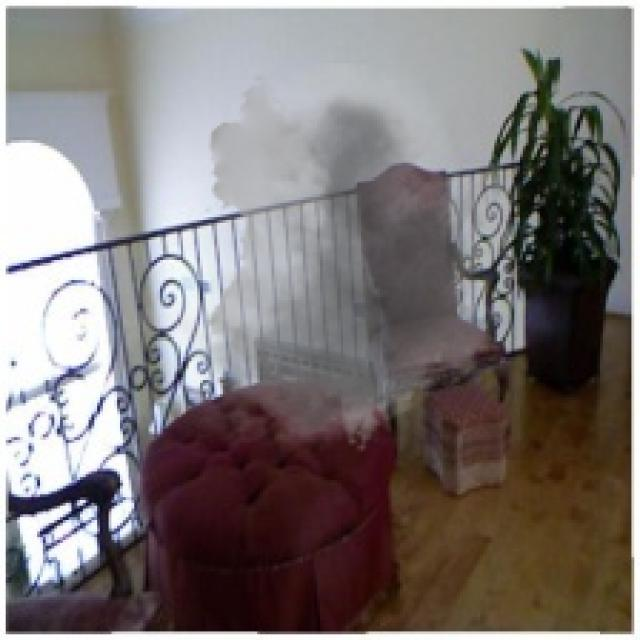smoke: (126, 60, 534, 466)
